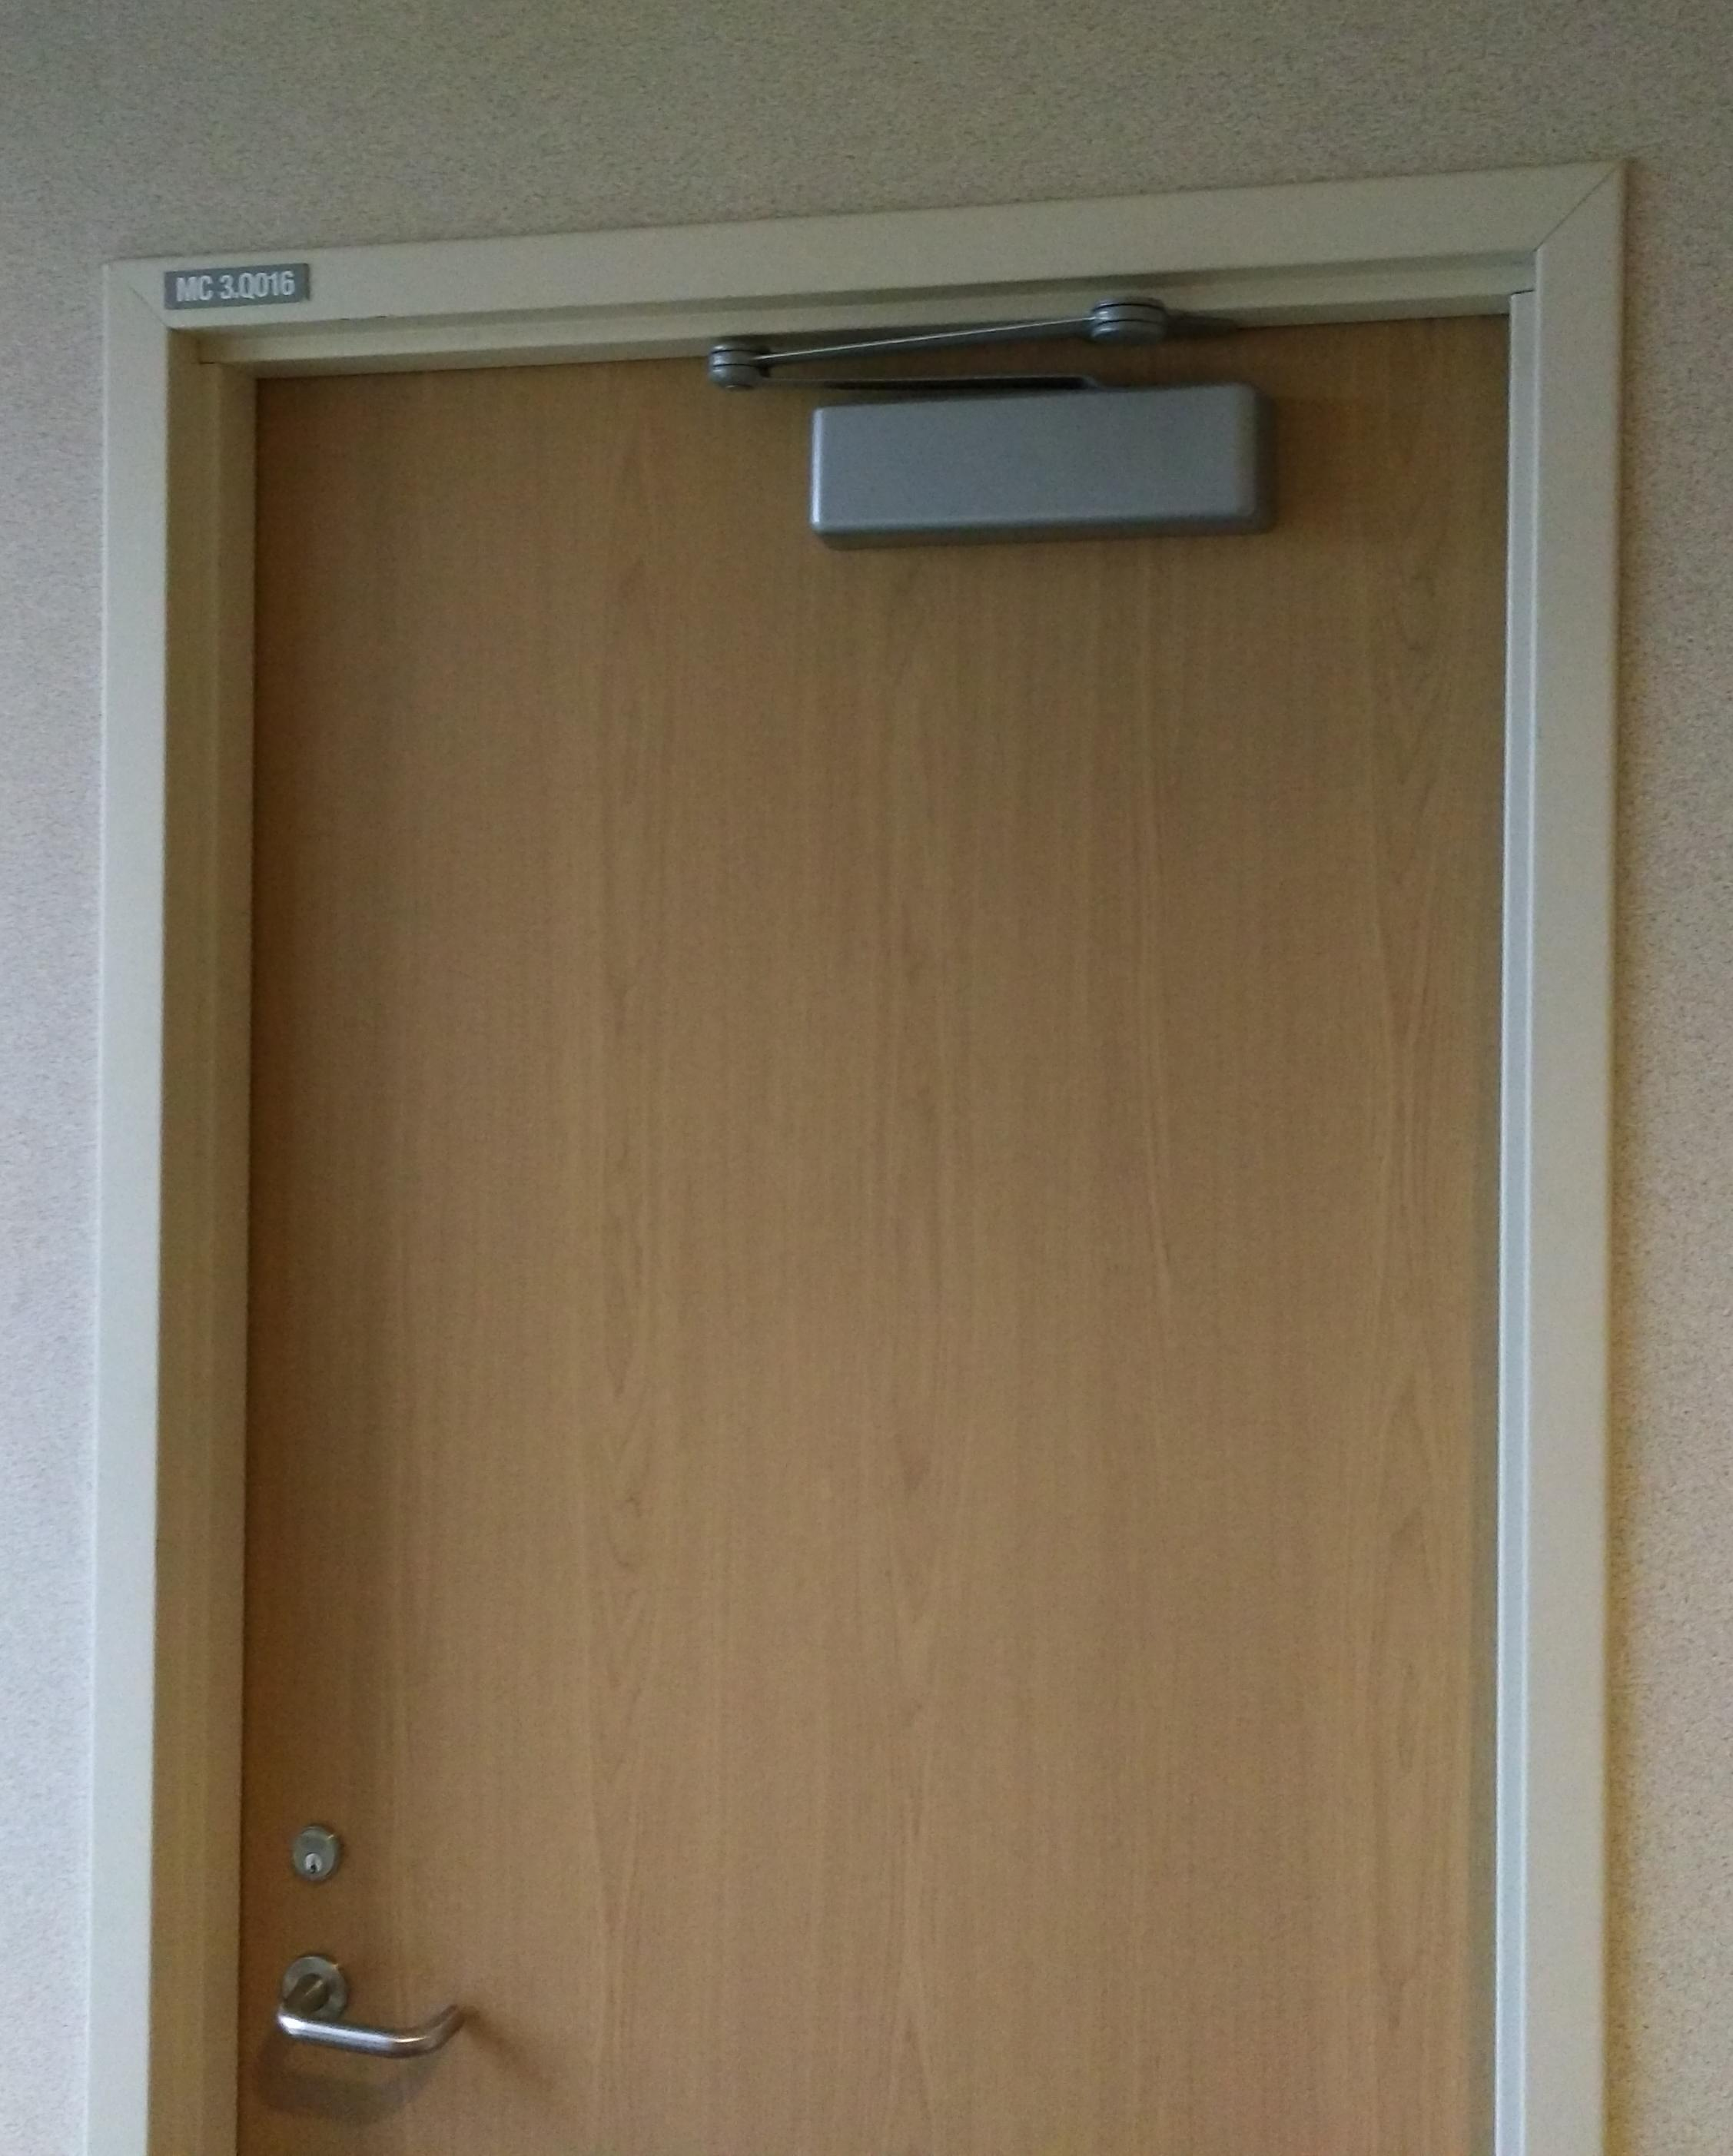door: (83, 161, 1623, 2151)
